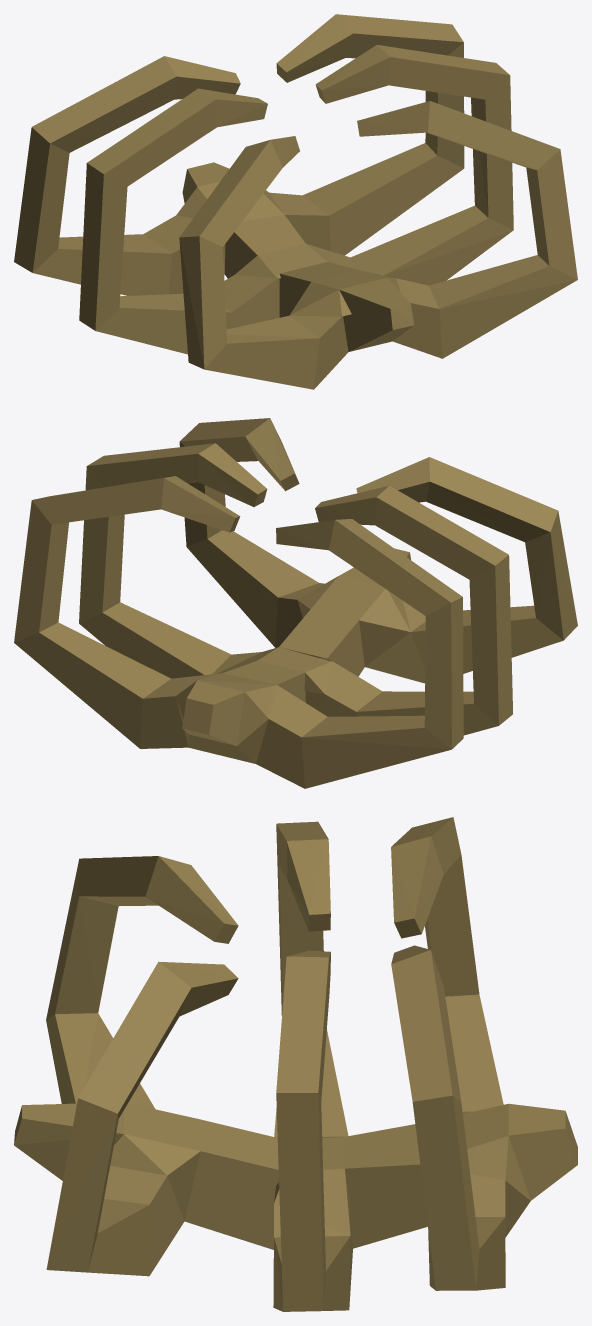
Rendered from Ribs.fbx.
The picture shows the model from 3 angles, top to bottom: view 1: azimuth 30°, elevation 25°; view 2: azimuth 150°, elevation 25°; view 3: azimuth 270°, elevation 25°; orthographic projection. The views are drawn at different scales.
Parts seen in each view (by area): view 1: Ribs; view 2: Ribs; view 3: Ribs.
Boxes of the visible parts, bbox=[...] form: Ribs: bbox=[14, 14, 577, 389]; Ribs: bbox=[14, 418, 577, 788]; Ribs: bbox=[14, 817, 577, 1311].
Bounding box in the file's own units: 49.7 × 28.97 × 40.71.
